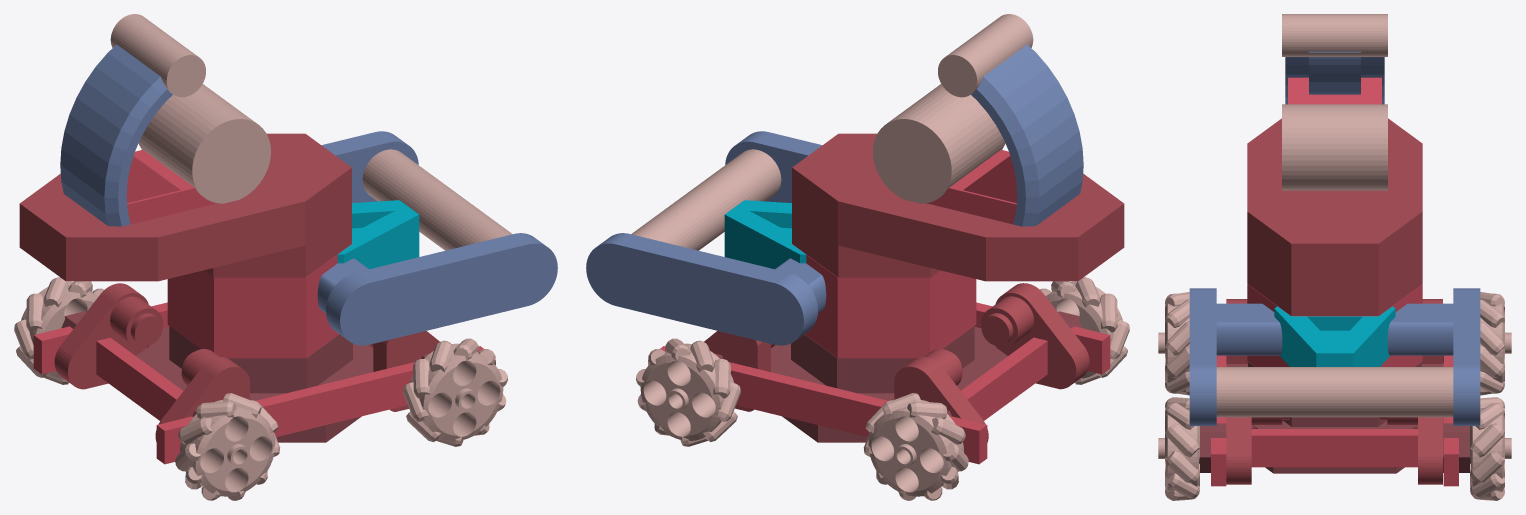
Rendered from bot-mecanum-red-shooter.glb.
3 renders of one model, left to right at view 1: azimuth 30°, elevation 25°; view 2: azimuth 150°, elevation 25°; view 3: azimuth 270°, elevation 25°, orthographic. The views are drawn at different scales.
Visible parts, largest first — view 1: Mesh_Mesh_head_geo.001_lambert2SG.001; view 2: Mesh_Mesh_head_geo.001_lambert2SG.001; view 3: Mesh_Mesh_head_geo.001_lambert2SG.001.
Part boxes in pixels (<box>): Mesh_Mesh_head_geo.001_lambert2SG.001: <box>14,14,557,500</box>; Mesh_Mesh_head_geo.001_lambert2SG.001: <box>586,14,1129,500</box>; Mesh_Mesh_head_geo.001_lambert2SG.001: <box>1158,14,1511,500</box>.
Bounding box in the file's own units: 0.0312 × 0.0273 × 0.023.
